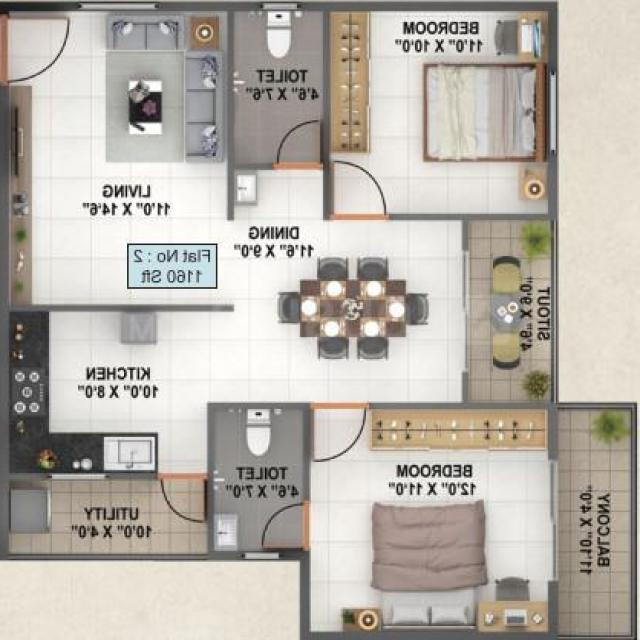Balcony-Sitout: (554, 400, 640, 637)
Bedroom: (317, 0, 561, 218)
Bedroom with Toilet: (206, 402, 554, 637)
Dining: (276, 255, 431, 363)
Kitchen: (0, 305, 208, 473)
Living: (1, 1, 232, 310)
Toilet: (227, 0, 328, 166), (206, 402, 305, 563)
Utility: (0, 473, 209, 560)
